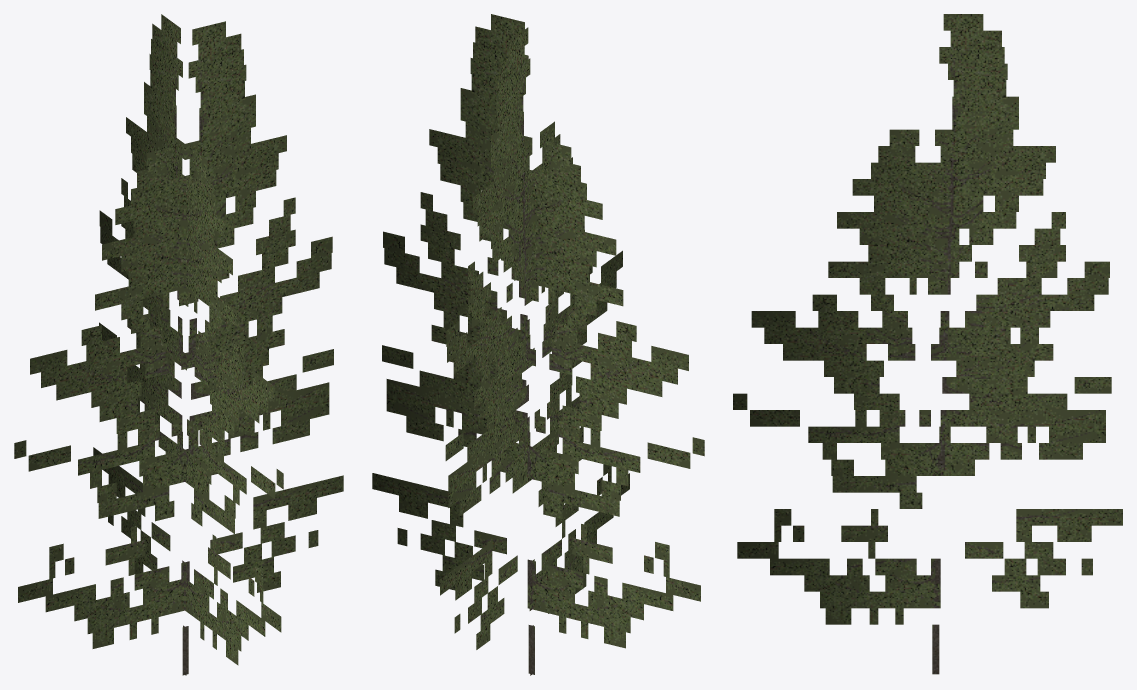
File: impostor-fir-a-far.glb
The picture shows the model from 3 angles, left to right: view 1: azimuth 30°, elevation 25°; view 2: azimuth 150°, elevation 25°; view 3: azimuth 270°, elevation 25°; orthographic projection. The views are drawn at different scales.
Bounding box in the file's own units: 4.55 × 8.51 × 4.55.
1 material, 1 textured.
